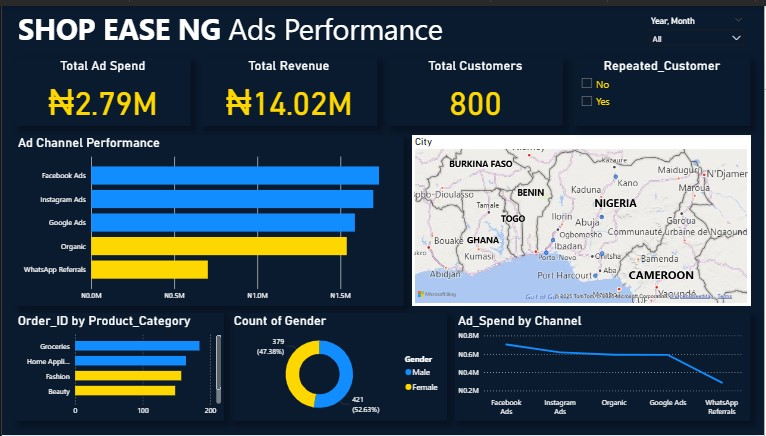

The dashboard page shown, as its layout file describes it:
{"tool":"powerbi","page":{"name":"Page 1","canvas":[1280,720],"ordinal":0},"visuals":[{"type":"slicer","fields":{"Values":["SHOP EASE NG Dataset - nigeria_ecommerce_ads_dataset.Date.Variation.Date Hierarchy.Year","SHOP EASE NG Dataset - nigeria_ecommerce_ads_dataset.Date.Variation.Date Hierarchy.Month"]},"box":[1076.7,11.8,179.7,60.5],"z":0},{"type":"card","title":"Total Ad Spend","fields":{"Values":["Sum(SHOP EASE NG Dataset - nigeria_ecommerce_ads_dataset.Ad_Spend_NGN)"]},"box":[21.8,87.3,295,114.2],"z":1000},{"type":"card","title":"Total Revenue","fields":{"Values":["Sum(SHOP EASE NG Dataset - nigeria_ecommerce_ads_dataset.Revenue_NGN)"]},"box":[335,87.3,295.6,114.2],"z":2000},{"type":"barChart","title":"Ad  Channel Performance","fields":{"Category":["SHOP EASE NG Dataset - nigeria_ecommerce_ads_dataset.Channel"],"Y":["Sum(SHOP EASE NG Dataset - nigeria_ecommerce_ads_dataset.Profit_NGN)"]},"box":[21.8,216.7,653.4,287.2],"z":3000},{"type":"donutChart","title":"Count of Gender ","fields":{"Y":["CountNonNull(SHOP EASE NG Dataset - nigeria_ecommerce_ads_dataset.Gender)"],"Category":["SHOP EASE NG Dataset - nigeria_ecommerce_ads_dataset.Gender"]},"box":[384.7,515.7,362.8,181.4],"z":4000},{"type":"card","title":"Total Customers","fields":{"Values":["CountNonNull(SHOP EASE NG Dataset - nigeria_ecommerce_ads_dataset.Gender)"]},"box":[648.7,87.3,294,114.2],"z":5000},{"type":"lineChart","title":" Ad_Spend by Channel","fields":{"Category":["SHOP EASE NG Dataset - nigeria_ecommerce_ads_dataset.Channel"],"Y":["Sum(SHOP EASE NG Dataset - nigeria_ecommerce_ads_dataset.Ad_Spend_NGN)"]},"box":[760.9,515.7,495.5,181.4],"z":6000},{"type":"barChart","title":"Order_ID by Product_Category","fields":{"Y":["CountNonNull(SHOP EASE NG Dataset - nigeria_ecommerce_ads_dataset.Order_ID)"],"Category":["SHOP EASE NG Dataset - nigeria_ecommerce_ads_dataset.Product_Category"]},"box":[21.8,515.7,351.1,181.4],"z":7000},{"type":"map","fields":{"Category":["SHOP EASE NG Dataset - nigeria_ecommerce_ads_dataset.City"]},"box":[688.7,216.7,567.8,287.2],"z":8000},{"type":"slicer","title":"Repeated_Customer","fields":{"Values":["SHOP EASE NG Dataset - nigeria_ecommerce_ads_dataset.Repeat_Customer"]},"box":[960.8,87.3,295.6,114.2],"z":9000},{"type":"textbox","box":[21.8,0,1038.1,87.3],"z":10000}]}

Visuals, with their boxes in screenshot pixels (x1, y1, x2, y2), scaled from the page's 1280x720 canvas onto the 766x436 screenshot:
slicer - SHOP EASE NG Dataset - nigeria_ecommerce_ads_dataset.Date.Variation.Date Hierarchy.Year x SHOP EASE NG Dataset - nigeria_ecommerce_ads_dataset.Date.Variation.Date Hierarchy.Month: 644,7,752,44
"Total Ad Spend" card: 13,53,190,122
"Total Revenue" card: 200,53,377,122
"Ad  Channel Performance" barChart: 13,131,404,305
"Count of Gender " donutChart: 230,312,447,422
"Total Customers" card: 388,53,564,122
" Ad_Spend by Channel" lineChart: 455,312,752,422
"Order_ID by Product_Category" barChart: 13,312,223,422
map - SHOP EASE NG Dataset - nigeria_ecommerce_ads_dataset.City: 412,131,752,305
"Repeated_Customer" slicer: 575,53,752,122
textbox: 13,0,634,53
